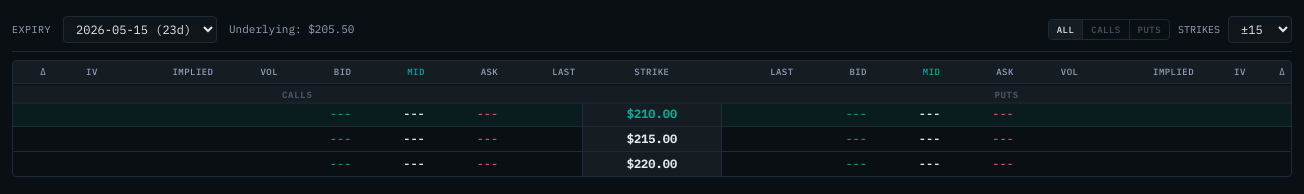
Test case: OptionsChainTab 0DTE selection › keeps a dated expiry as default but loads the 0DTE chain when selected
Select "2026-04-22 (0d)" in the 1st dropdown with class "chain-expiry-select" at (140, 30), box [63,16,217,43]
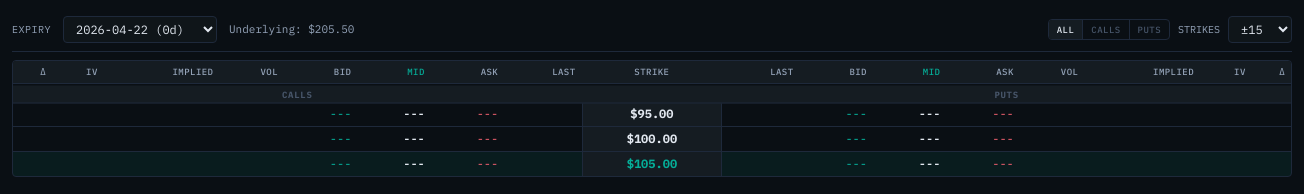
expect the text "$100.00" is shown: met, box [582,127,722,152]
